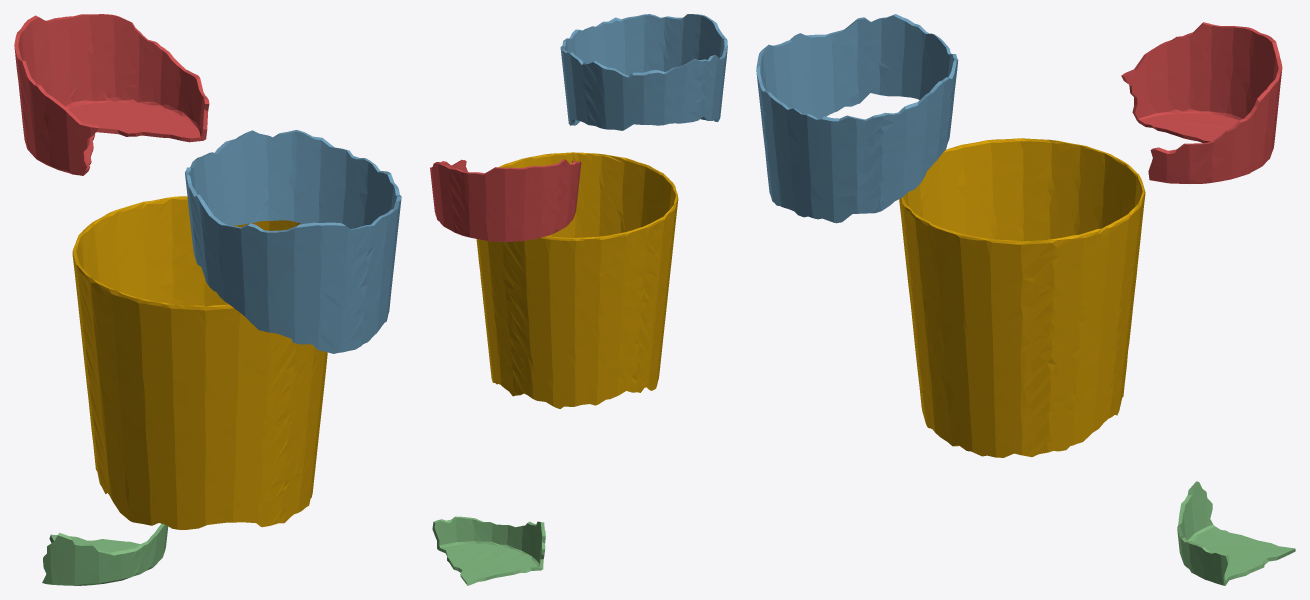
Rendered from fractured_42_4pcs_transformed.glb.
3 renders of one model, left to right at view 1: azimuth 30°, elevation 25°; view 2: azimuth 150°, elevation 25°; view 3: azimuth 270°, elevation 25°, orthographic. The views are drawn at different scales.
Visible parts, largest first — view 1: piece_0.obj, piece_2.obj, piece_1.obj, piece_3.obj; view 2: piece_0.obj, piece_2.obj, piece_1.obj, piece_3.obj; view 3: piece_0.obj, piece_2.obj, piece_1.obj, piece_3.obj.
Part boxes in pixels (<box>): piece_0.obj: <box>72,196,327,529</box>; piece_2.obj: <box>185,130,401,353</box>; piece_1.obj: <box>14,14,209,175</box>; piece_3.obj: <box>42,523,168,585</box>; piece_0.obj: <box>476,152,678,408</box>; piece_2.obj: <box>560,14,727,130</box>; piece_1.obj: <box>430,159,581,242</box>; piece_3.obj: <box>432,516,545,585</box>; piece_0.obj: <box>899,138,1145,457</box>; piece_2.obj: <box>756,14,958,223</box>; piece_1.obj: <box>1121,22,1282,183</box>; piece_3.obj: <box>1177,481,1295,585</box>.
Bounding box in the file's own units: 0.6116 × 1.37 × 1.33.
